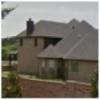chimneys: (26, 17, 36, 37)
